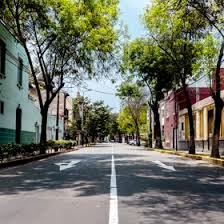strada: (0, 145, 223, 223)
